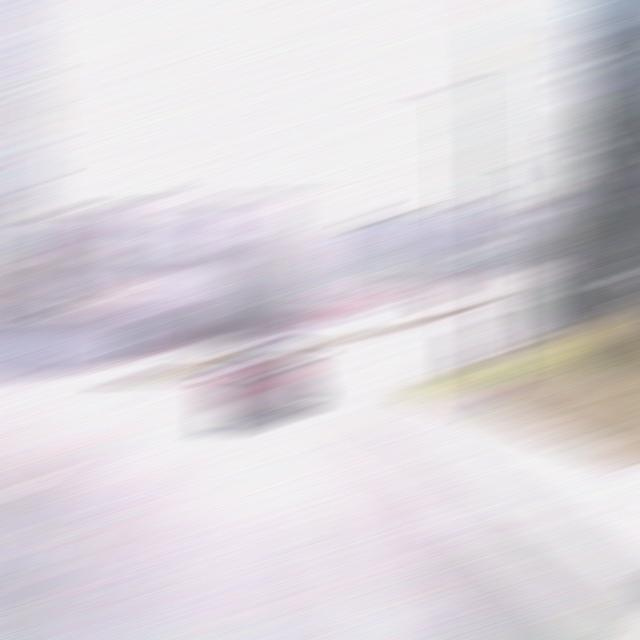stop_sign: (420, 276, 465, 300)
